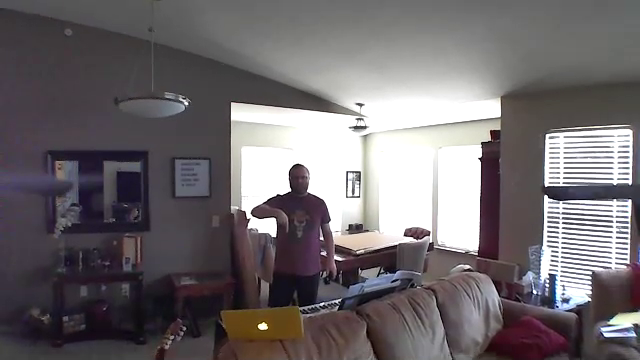down: (274, 204, 291, 234)
